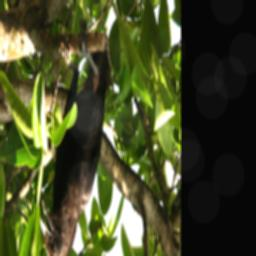Crow: (37, 31, 111, 256)
